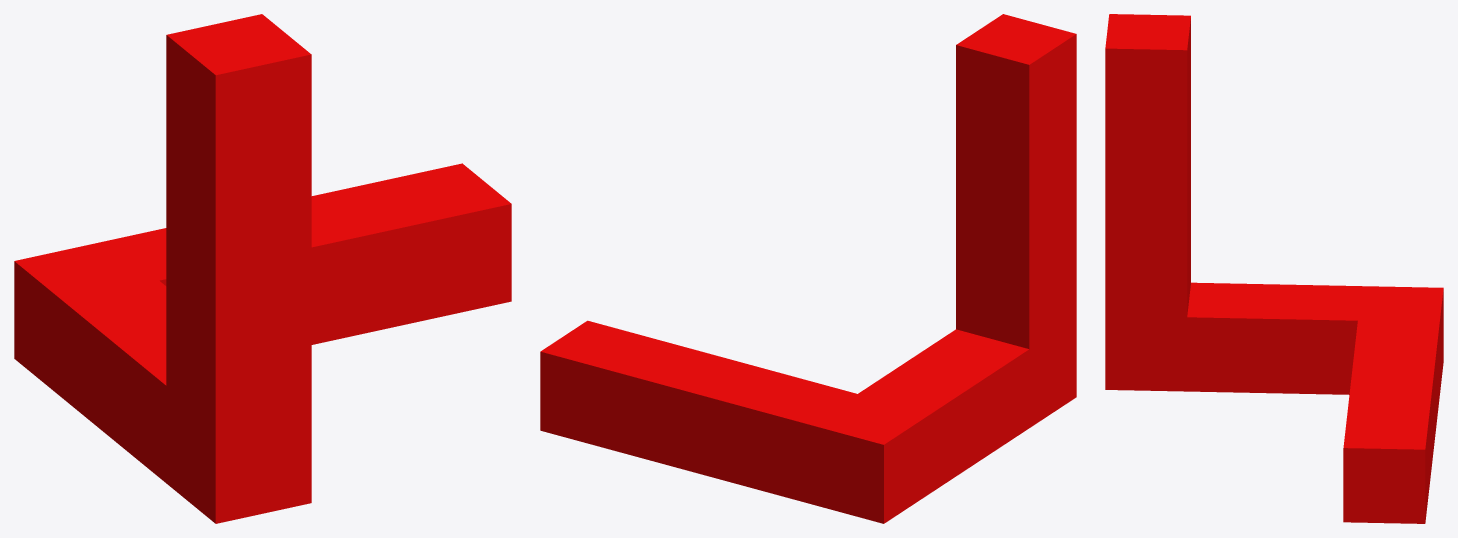
The model's file is Twistycool_robot_red.dae.
3 renders of one model, left to right at view 1: azimuth 30°, elevation 25°; view 2: azimuth 150°, elevation 25°; view 3: azimuth 270°, elevation 25°, orthographic. The views are drawn at different scales.
Visible parts, largest first — view 1: instance_0; view 2: instance_0; view 3: instance_0.
Part boxes in pixels (<box>): instance_0: <box>14,14,511,523</box>; instance_0: <box>540,14,1076,523</box>; instance_0: <box>1105,14,1443,523</box>.
Size of the model in its own units: 57.23 by 48.51 by 54.
